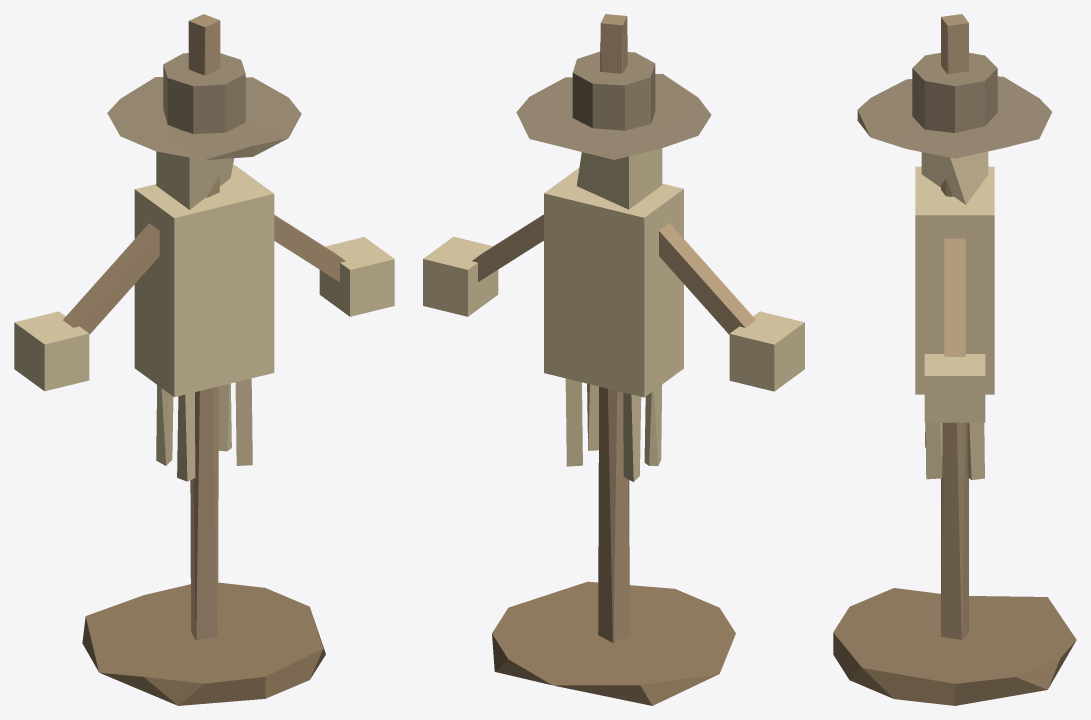
File: 33-Agricultura_espantapajaros.glb
The picture shows the model from 3 angles, left to right: view 1: azimuth 30°, elevation 25°; view 2: azimuth 150°, elevation 25°; view 3: azimuth 270°, elevation 25°; orthographic projection.
Visible parts, largest first — view 1: SM_Espanta_M_Espanta_Paja, SM_Espanta_M_Espanta_Tierra, SM_Espanta_M_Espanta_Madera, SM_Espanta_M_Espanta_Trapo, SM_Espanta_M_Espanta_Cara; view 2: SM_Espanta_M_Espanta_Paja, SM_Espanta_M_Espanta_Tierra, SM_Espanta_M_Espanta_Madera, SM_Espanta_M_Espanta_Trapo, SM_Espanta_M_Espanta_Cara; view 3: SM_Espanta_M_Espanta_Tierra, SM_Espanta_M_Espanta_Paja, SM_Espanta_M_Espanta_Trapo, SM_Espanta_M_Espanta_Madera, SM_Espanta_M_Espanta_Cara.
Boxes of the visible parts, box(x1,y1,x2,y2) form: SM_Espanta_M_Espanta_Paja: box(14, 165, 394, 481); SM_Espanta_M_Espanta_Tierra: box(82, 582, 325, 705); SM_Espanta_M_Espanta_Madera: box(63, 14, 345, 640); SM_Espanta_M_Espanta_Trapo: box(107, 53, 301, 159); SM_Espanta_M_Espanta_Cara: box(156, 151, 234, 209); SM_Espanta_M_Espanta_Paja: box(423, 168, 804, 481); SM_Espanta_M_Espanta_Tierra: box(492, 581, 735, 705); SM_Espanta_M_Espanta_Madera: box(472, 14, 755, 642); SM_Espanta_M_Espanta_Trapo: box(516, 51, 711, 159); SM_Espanta_M_Espanta_Cara: box(576, 148, 662, 209); SM_Espanta_M_Espanta_Tierra: box(833, 588, 1076, 705); SM_Espanta_M_Espanta_Paja: box(915, 166, 994, 480); SM_Espanta_M_Espanta_Trapo: box(857, 52, 1051, 158); SM_Espanta_M_Espanta_Madera: box(941, 14, 968, 639); SM_Espanta_M_Espanta_Cara: box(921, 151, 988, 204).
Bounding box in the file's own units: 1.33 × 2.3 × 0.8.
